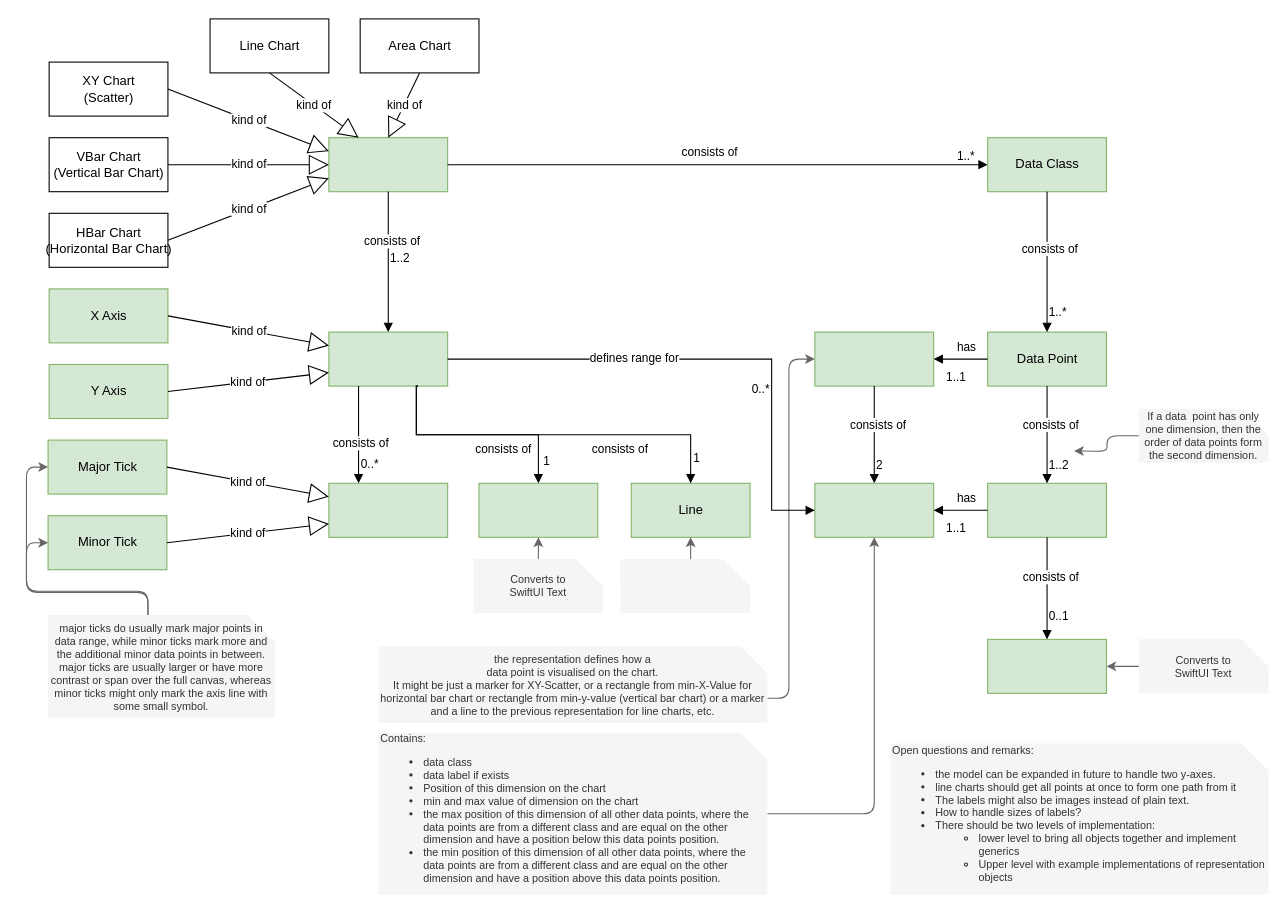
Image size: 1287x915. Some labels were removed from this diagram. Here are the shapes that lost their labels. From the top down, the centre of each, then its label:
point (388, 164): 2D-Chart
point (388, 358): Axis
point (874, 358): Data Point Representation
point (388, 509): Tick
point (538, 509): Lable
point (874, 509): Data Point Representation Dimension
point (1046, 509): Data Dimension
point (685, 585): Converts to SwiftUI Rectangle (thin)
point (1046, 665): Data Lable
